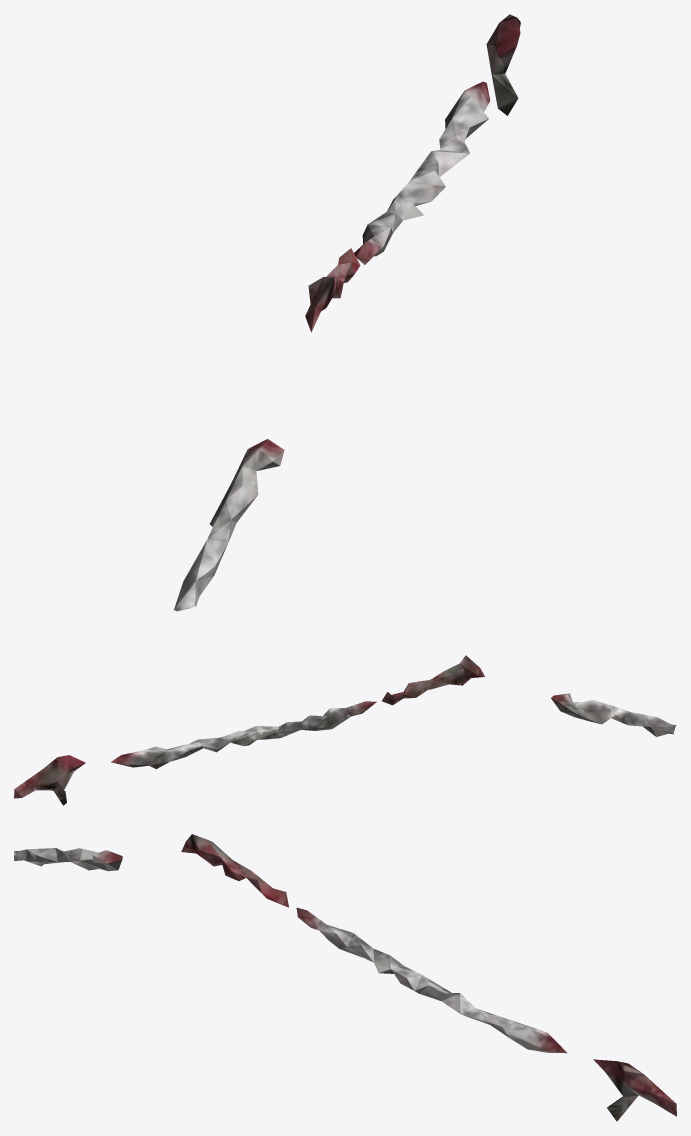
3 renders of one model, top to bottom at view 1: azimuth 30°, elevation 25°; view 2: azimuth 150°, elevation 25°; view 3: azimuth 270°, elevation 25°, orthographic. The views are drawn at different scales.
Size of the model in its own units: 1.13 by 0.2457 by 1.16.
1 material, 1 textured.
